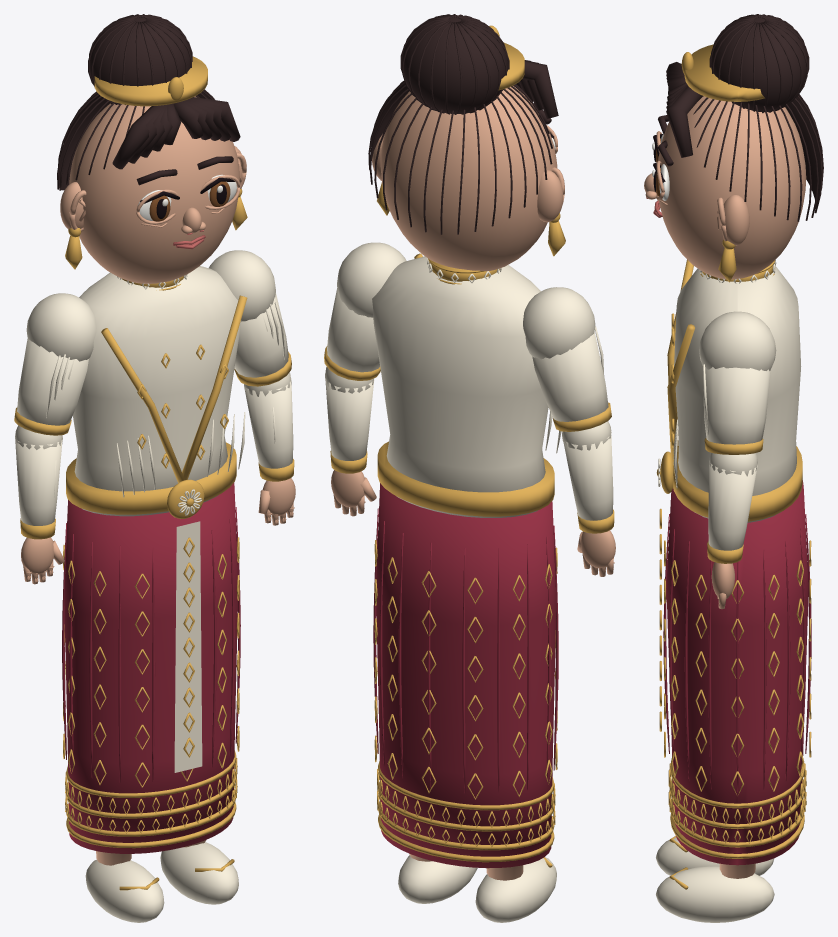
Rendered from visitor-female-refined.glb.
The picture shows the model from 3 angles, left to right: view 1: azimuth 30°, elevation 25°; view 2: azimuth 150°, elevation 25°; view 3: azimuth 270°, elevation 25°; orthographic projection. The views are drawn at different scales.
Visible parts, largest first — view 1: Skirt Burgundy silk, Upper Ivory silk, Head Warm porcelain skin, Head Ink brown hair, Skirt Embossed gold, Upper Embossed gold, ArmL Ivory silk, Skirt Ivory silk, ArmR Ivory silk, ForearmL Ivory silk, KneeL Ivory silk, ForearmR Ivory silk (+7 smaller); view 2: Skirt Burgundy silk, Upper Ivory silk, Head Warm porcelain skin, Head Ink brown hair, Skirt Embossed gold, ArmL Ivory silk, ArmR Ivory silk, Upper Embossed gold, ForearmL Ivory silk, ForearmR Ivory silk, KneeL Ivory silk, KneeR Ivory silk (+4 smaller); view 3: Skirt Burgundy silk, Head Warm porcelain skin, Upper Ivory silk, Head Ink brown hair, Skirt Embossed gold, ArmR Ivory silk, Upper Embossed gold, KneeR Ivory silk, ForearmR Ivory silk, Head Embossed gold, KneeL Ivory silk, HandR Warm porcelain skin (+3 smaller).
Boxes of the visible parts, left/top/right/bottom form: Skirt Burgundy silk: left=62, top=482, right=240, bottom=853; Upper Ivory silk: left=72, top=266, right=245, bottom=516; Head Warm porcelain skin: left=60, top=96, right=246, bottom=283; Head Ink brown hair: left=57, top=14, right=240, bottom=190; Skirt Embossed gold: left=63, top=537, right=239, bottom=848; Upper Embossed gold: left=66, top=276, right=247, bottom=518; ArmL Ivory silk: left=17, top=293, right=96, bottom=425; Skirt Ivory silk: left=174, top=521, right=202, bottom=772; ArmR Ivory silk: left=209, top=250, right=288, bottom=377; ForearmL Ivory silk: left=15, top=425, right=62, bottom=525; KneeL Ivory silk: left=85, top=859, right=164, bottom=922; ForearmR Ivory silk: left=244, top=372, right=293, bottom=468; Skirt Burgundy silk: left=373, top=483, right=558, bottom=868; Upper Ivory silk: left=372, top=256, right=561, bottom=517; Head Warm porcelain skin: left=372, top=86, right=564, bottom=271; Head Ink brown hair: left=368, top=14, right=558, bottom=234; Skirt Embossed gold: left=374, top=540, right=557, bottom=862; ArmL Ivory silk: left=523, top=287, right=608, bottom=431; ArmR Ivory silk: left=327, top=242, right=406, bottom=372; Upper Embossed gold: left=377, top=253, right=554, bottom=516; ForearmL Ivory silk: left=562, top=421, right=613, bottom=520; ForearmR Ivory silk: left=325, top=367, right=374, bottom=460; KneeL Ivory silk: left=475, top=857, right=556, bottom=922; KneeR Ivory silk: left=398, top=855, right=477, bottom=903; Skirt Burgundy silk: left=663, top=480, right=811, bottom=865; Head Warm porcelain skin: left=644, top=96, right=806, bottom=279; Upper Ivory silk: left=658, top=260, right=801, bottom=522; Head Ink brown hair: left=658, top=14, right=823, bottom=221; Skirt Embossed gold: left=659, top=508, right=811, bottom=858; ArmR Ivory silk: left=699, top=311, right=776, bottom=444; Upper Embossed gold: left=656, top=259, right=802, bottom=521; KneeR Ivory silk: left=656, top=866, right=774, bottom=922; ForearmR Ivory silk: left=708, top=453, right=757, bottom=550; Head Embossed gold: left=681, top=44, right=764, bottom=282; KneeL Ivory silk: left=656, top=837, right=774, bottom=875; HandR Warm porcelain skin: left=711, top=562, right=734, bottom=609.
Bounding box in the file's own units: 0.628 × 1.91 × 0.3538.
